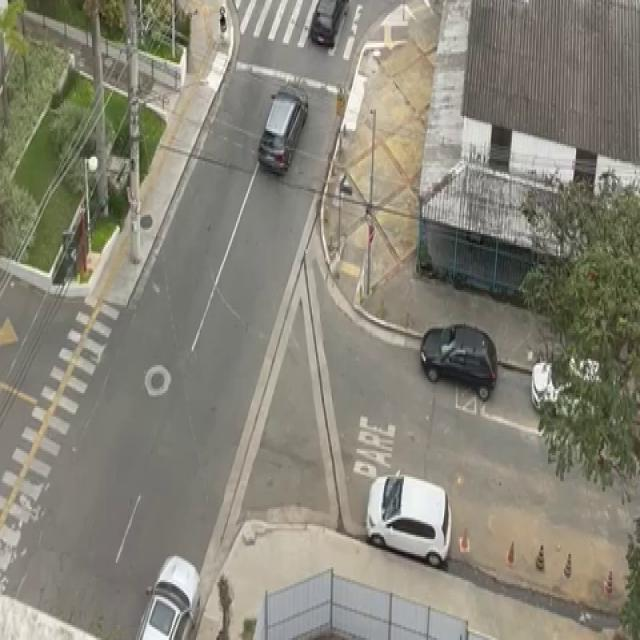car: (364, 468, 448, 569), (530, 348, 637, 418), (416, 319, 501, 402), (137, 547, 205, 640), (254, 80, 311, 177), (308, 0, 352, 49)
